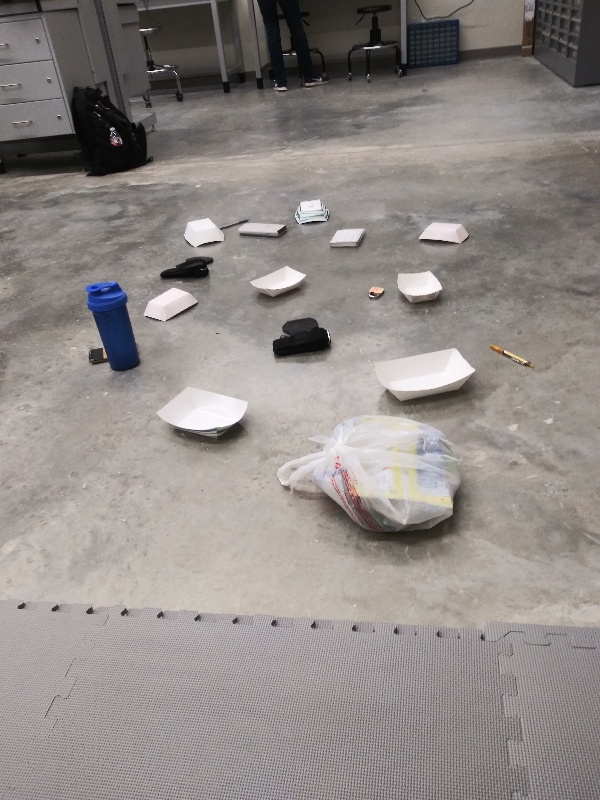plate: (368, 343, 481, 407), (152, 383, 252, 446), (244, 260, 315, 303), (138, 285, 203, 326), (394, 266, 447, 309), (180, 215, 228, 251), (414, 218, 472, 246), (292, 194, 334, 230)
